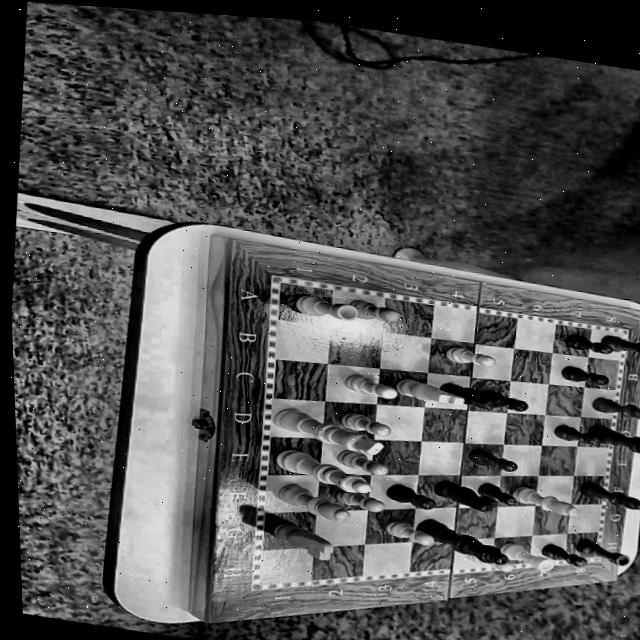chessboard: (264, 282, 625, 583)
